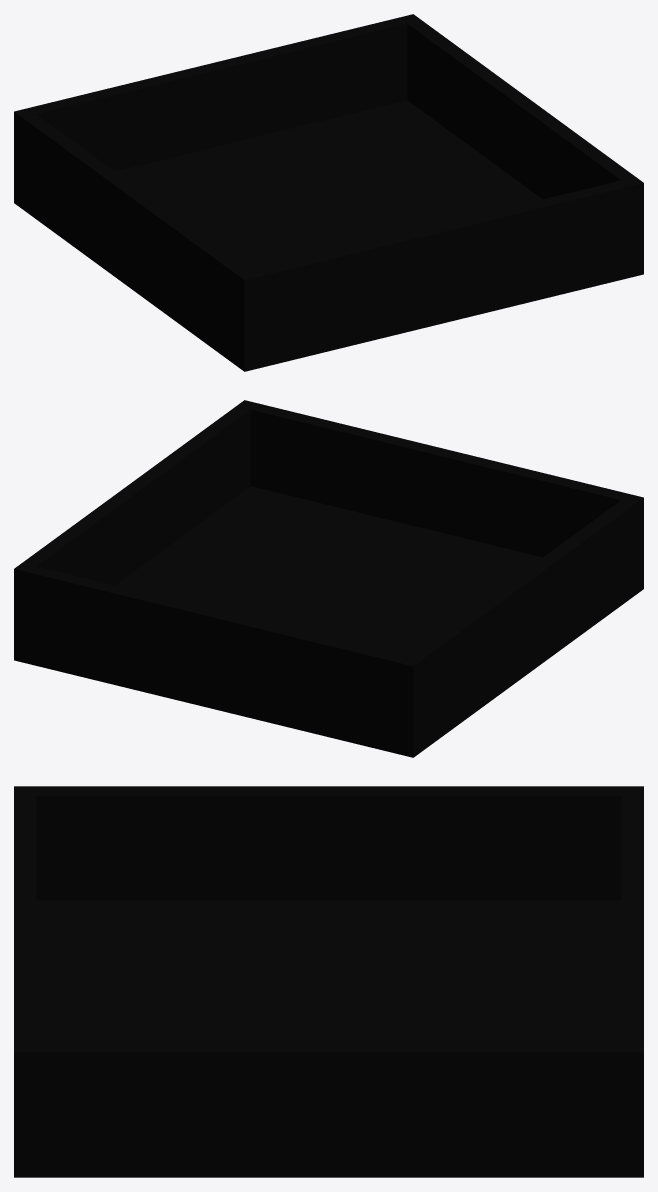
3 renders of one model, top to bottom at view 1: azimuth 30°, elevation 25°; view 2: azimuth 150°, elevation 25°; view 3: azimuth 270°, elevation 25°, orthographic. The views are drawn at different scales.
Parts seen in each view (by area): view 1: Box_557x557x122; view 2: Box_557x557x122; view 3: Box_557x557x122.
Part boxes in pixels (bbox=[...]): Box_557x557x122: bbox=[14, 14, 643, 371]; Box_557x557x122: bbox=[14, 400, 643, 757]; Box_557x557x122: bbox=[14, 786, 643, 1177].
Size of the model in its own units: 0.557 by 0.122 by 0.557.
1 material, 1 textured.
